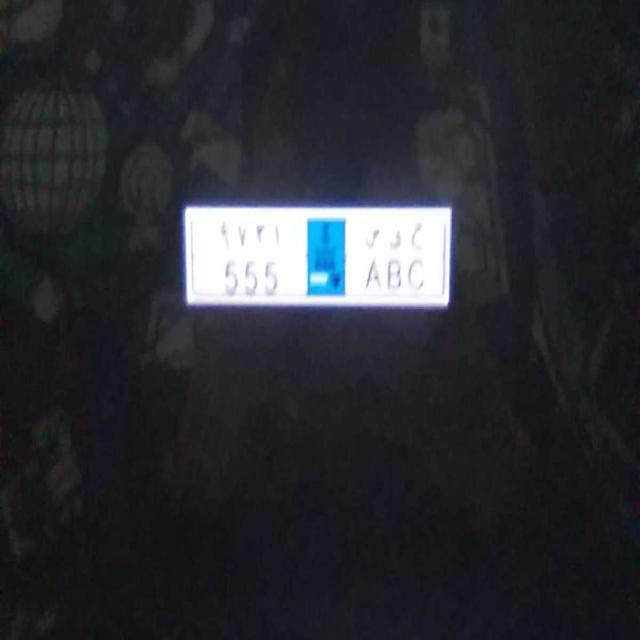license_plate: (204, 253, 433, 301)
